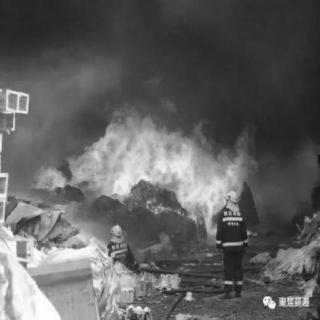Fire: (30, 72, 258, 240)
Smoke: (4, 4, 314, 148)
other: (108, 223, 126, 241)
